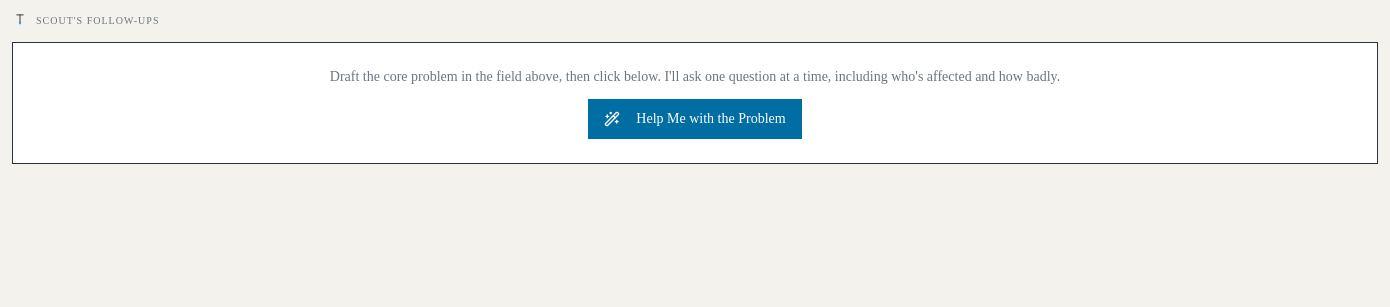
Test case: AIdChatPanel — Plumb inline thread (RD-2) › renders answered pairs, the live question with a Recommended tag, and both escape actions
Click the button "Help Me with the Problem": (695, 119) [588,99,802,139]
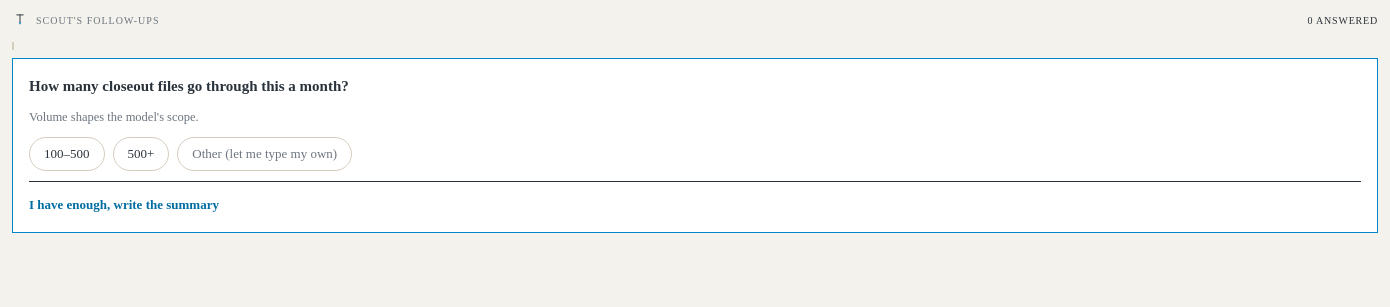
Now the text "How many closeout files go through this a month?" is shown, box [29,78,349,94]
Click the button "100–500": (67, 154) [29,137,104,170]
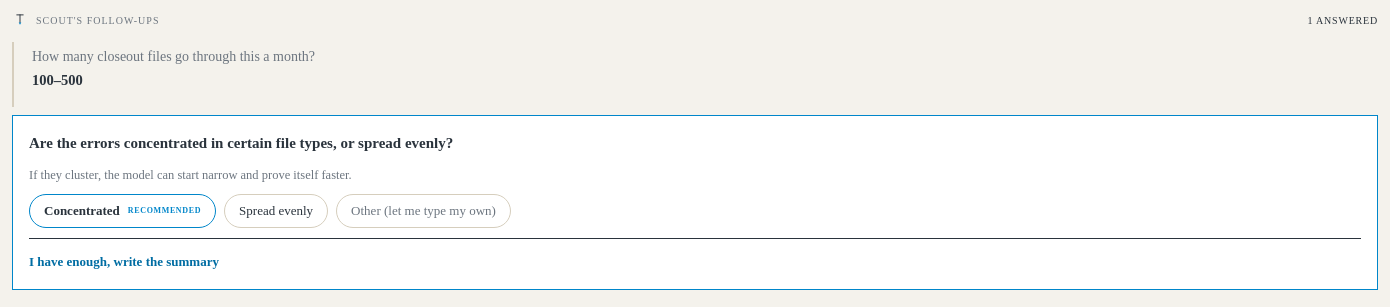
Now the text "How many closeout files go through this a month?" is shown, box [32,49,315,64]
Now the text "100–500" is shown, box [32,72,83,88]
Now the text "Are the errors concentrated in certain file types, or spread evenly?" is shown, box [29,135,453,151]
